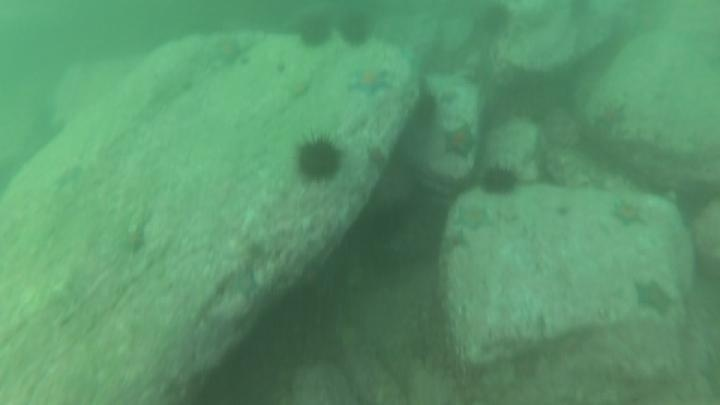echinus: (293, 132, 346, 185), (335, 10, 376, 50), (478, 162, 522, 199), (294, 12, 335, 51), (474, 2, 514, 39), (409, 90, 441, 131)
starfish: (629, 276, 677, 320), (116, 209, 154, 259), (345, 63, 395, 100), (203, 33, 251, 71), (439, 121, 479, 162), (590, 97, 631, 136), (48, 160, 90, 197), (607, 197, 650, 231), (453, 201, 496, 235), (440, 224, 472, 258), (283, 74, 315, 103), (364, 143, 390, 172)
